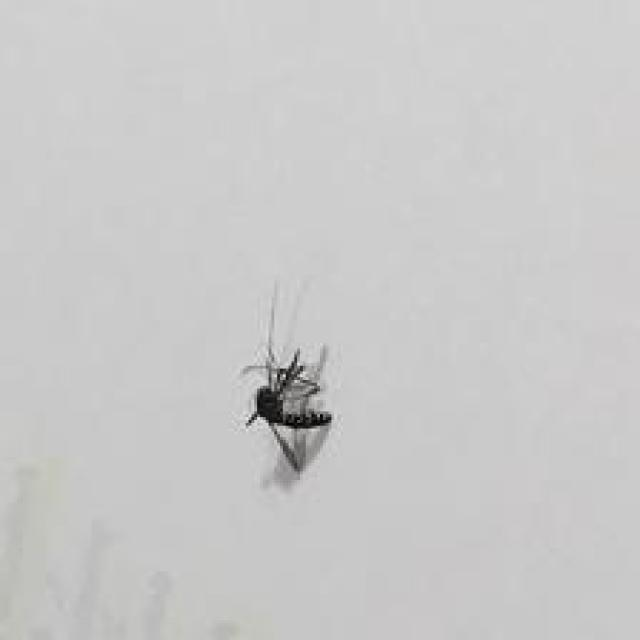Aedes albopictus: (240, 278, 334, 476)
